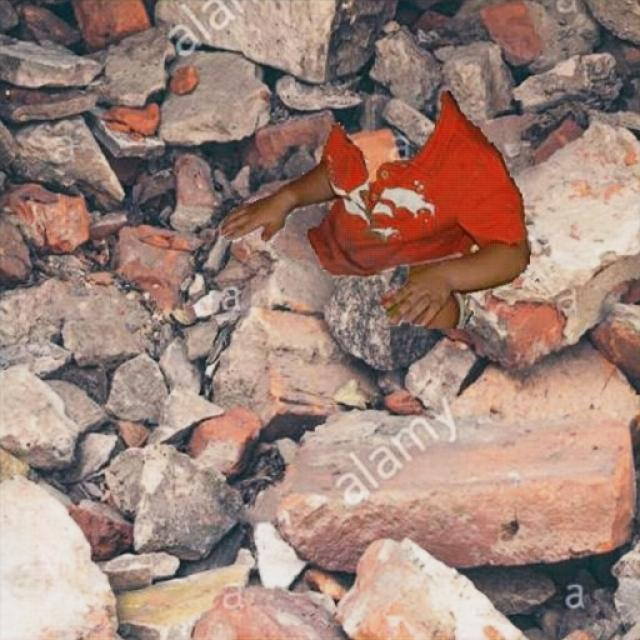Person in Rubble: (221, 90, 530, 328)
